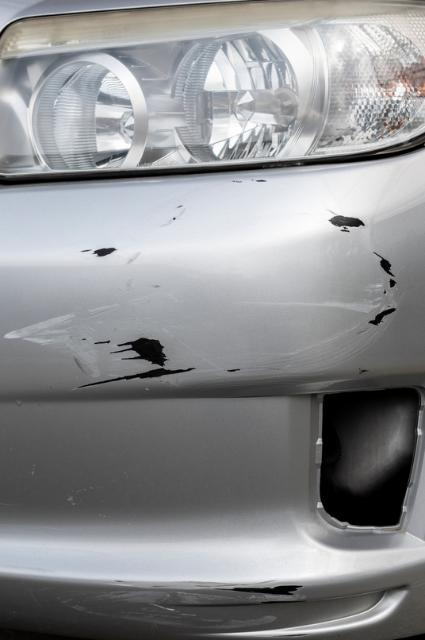Bumper: (2, 151, 425, 409)
